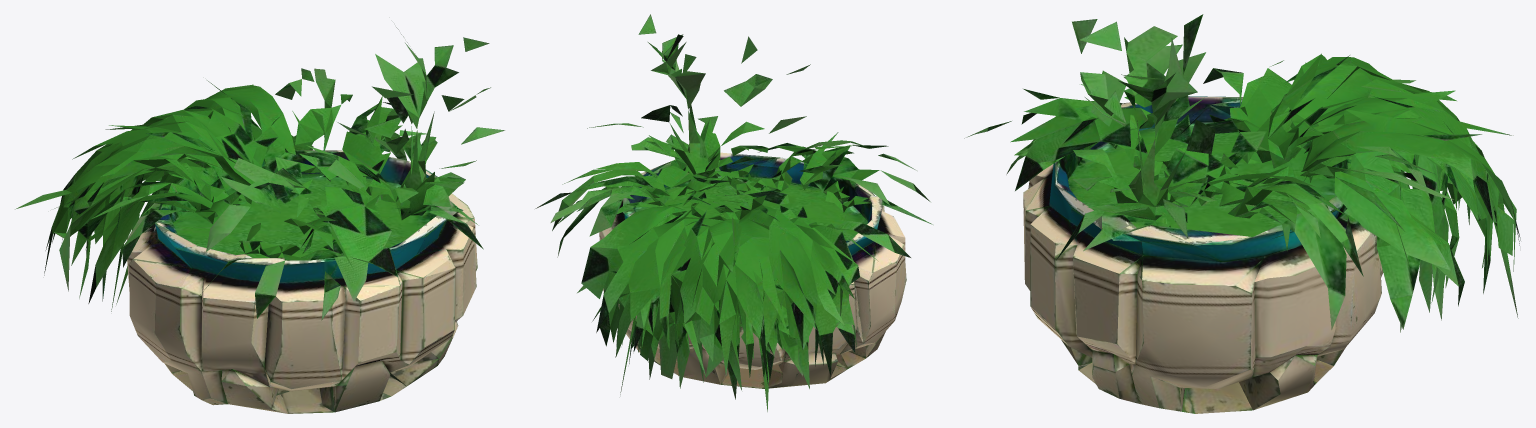
The model's file is plant-pod.glb.
3 views of the same model, side by side, from view 1: azimuth 30°, elevation 25°; view 2: azimuth 150°, elevation 25°; view 3: azimuth 270°, elevation 25° (orthographic). The views are drawn at different scales.
Bounding box in the file's own units: 1.23 × 1 × 1.31.
1 material, 1 textured.
